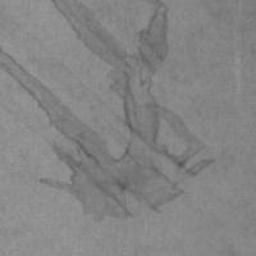Water spot: (0, 0, 216, 221)
